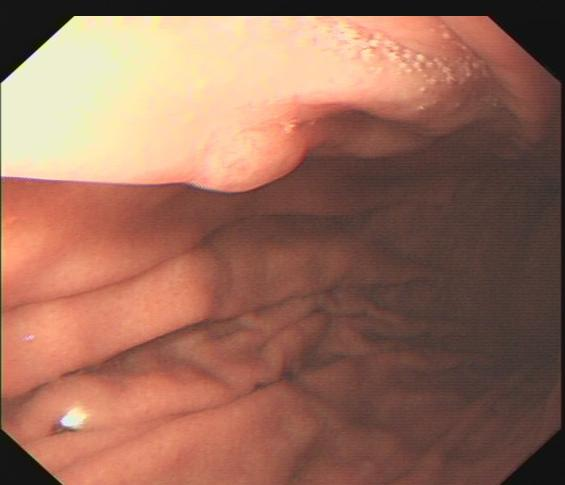Polyp: (182, 128, 309, 193)
